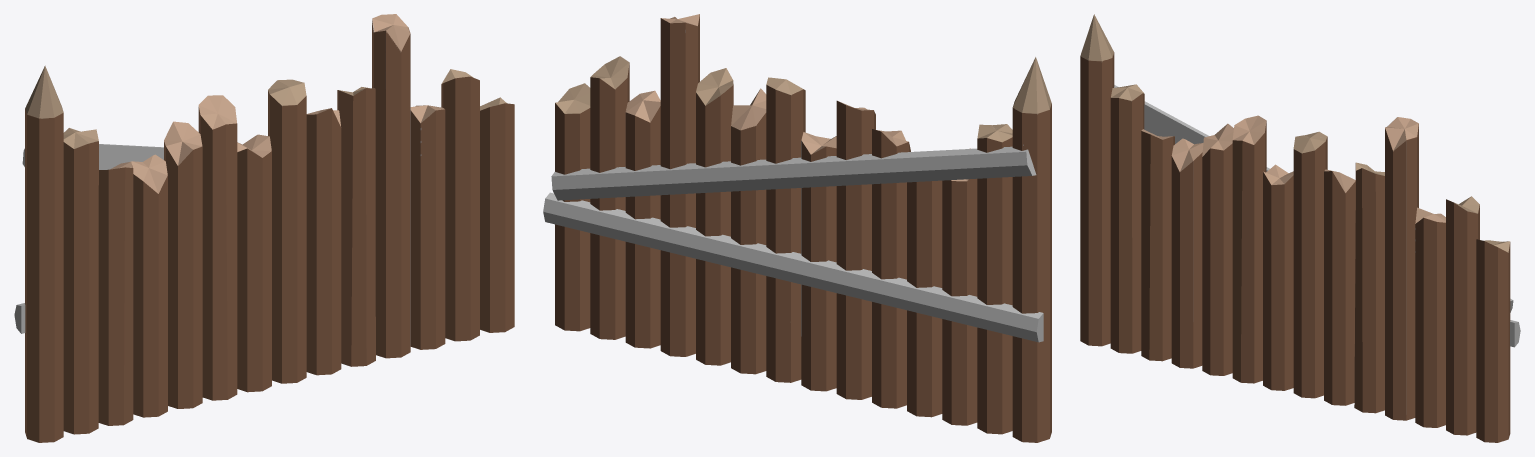
The model's file is Defense_WallModel_D3.fbx.
The picture shows the model from 3 angles, left to right: view 1: azimuth 30°, elevation 25°; view 2: azimuth 150°, elevation 25°; view 3: azimuth 330°, elevation 25°; orthographic projection. The views are drawn at different scales.
Parts seen in each view (by area): view 1: Cylinder, Cube; view 2: Cylinder, Cube; view 3: Cylinder, Cube.
Boxes of the visible parts, x1,y1,x2,y2 form: Cylinder: (25, 14, 514, 442); Cube: (14, 144, 163, 333); Cylinder: (555, 14, 1051, 442); Cube: (543, 146, 1043, 342); Cylinder: (1080, 14, 1510, 442); Cube: (1114, 85, 1520, 347).
Size of the model in its own units: 800 by 584 by 65.11.
1 material, 1 textured.
